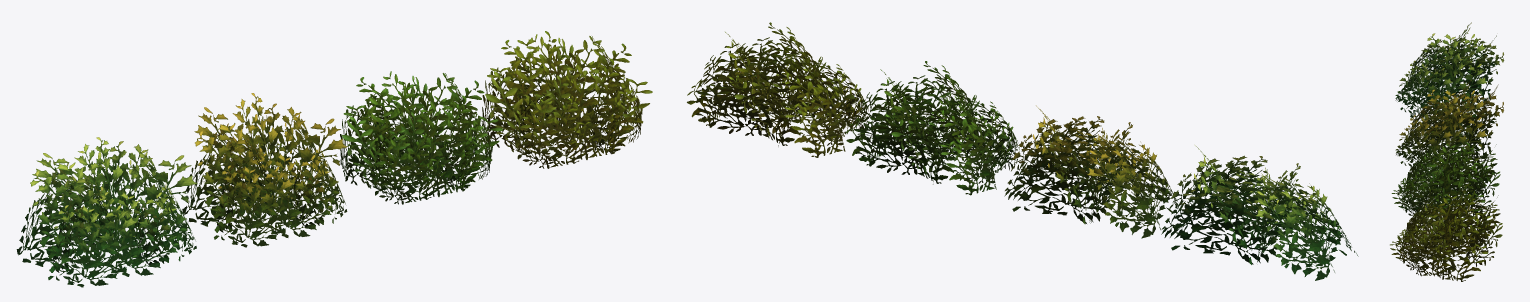
The model's file is 2_YiZhan_GuanMu_01.FBX.
The picture shows the model from 3 angles, left to right: view 1: azimuth 30°, elevation 25°; view 2: azimuth 150°, elevation 25°; view 3: azimuth 270°, elevation 25°; orthographic projection. The views are drawn at different scales.
Visible parts, largest first — view 1: 2_YiZhan_GuanMu_01, 2_YiZhan_GuanMu_02, 2_YiZhan_GuanMu_04, 2_YiZhan_GuanMu_03; view 2: 2_YiZhan_GuanMu_04, 2_YiZhan_GuanMu_01, 2_YiZhan_GuanMu_03, 2_YiZhan_GuanMu_02; view 3: 2_YiZhan_GuanMu_04, 2_YiZhan_GuanMu_01, 2_YiZhan_GuanMu_02, 2_YiZhan_GuanMu_03.
Part boxes in pixels (left/top/right/bottom): 2_YiZhan_GuanMu_01: left=16, top=137, right=197, bottom=287; 2_YiZhan_GuanMu_02: left=182, top=93, right=347, bottom=247; 2_YiZhan_GuanMu_04: left=482, top=31, right=652, bottom=168; 2_YiZhan_GuanMu_03: left=340, top=71, right=502, bottom=204; 2_YiZhan_GuanMu_04: left=687, top=22, right=868, bottom=157; 2_YiZhan_GuanMu_01: left=1161, top=145, right=1358, bottom=280; 2_YiZhan_GuanMu_03: left=845, top=61, right=1019, bottom=195; 2_YiZhan_GuanMu_02: left=1004, top=105, right=1181, bottom=238; 2_YiZhan_GuanMu_04: left=1390, top=180, right=1502, bottom=281; 2_YiZhan_GuanMu_01: left=1395, top=22, right=1504, bottom=131; 2_YiZhan_GuanMu_02: left=1395, top=80, right=1503, bottom=177; 2_YiZhan_GuanMu_03: left=1391, top=139, right=1500, bottom=230.
Size of the model in its own units: 2112 by 352 by 524.
Materials: 1 (1 with a texture image).
